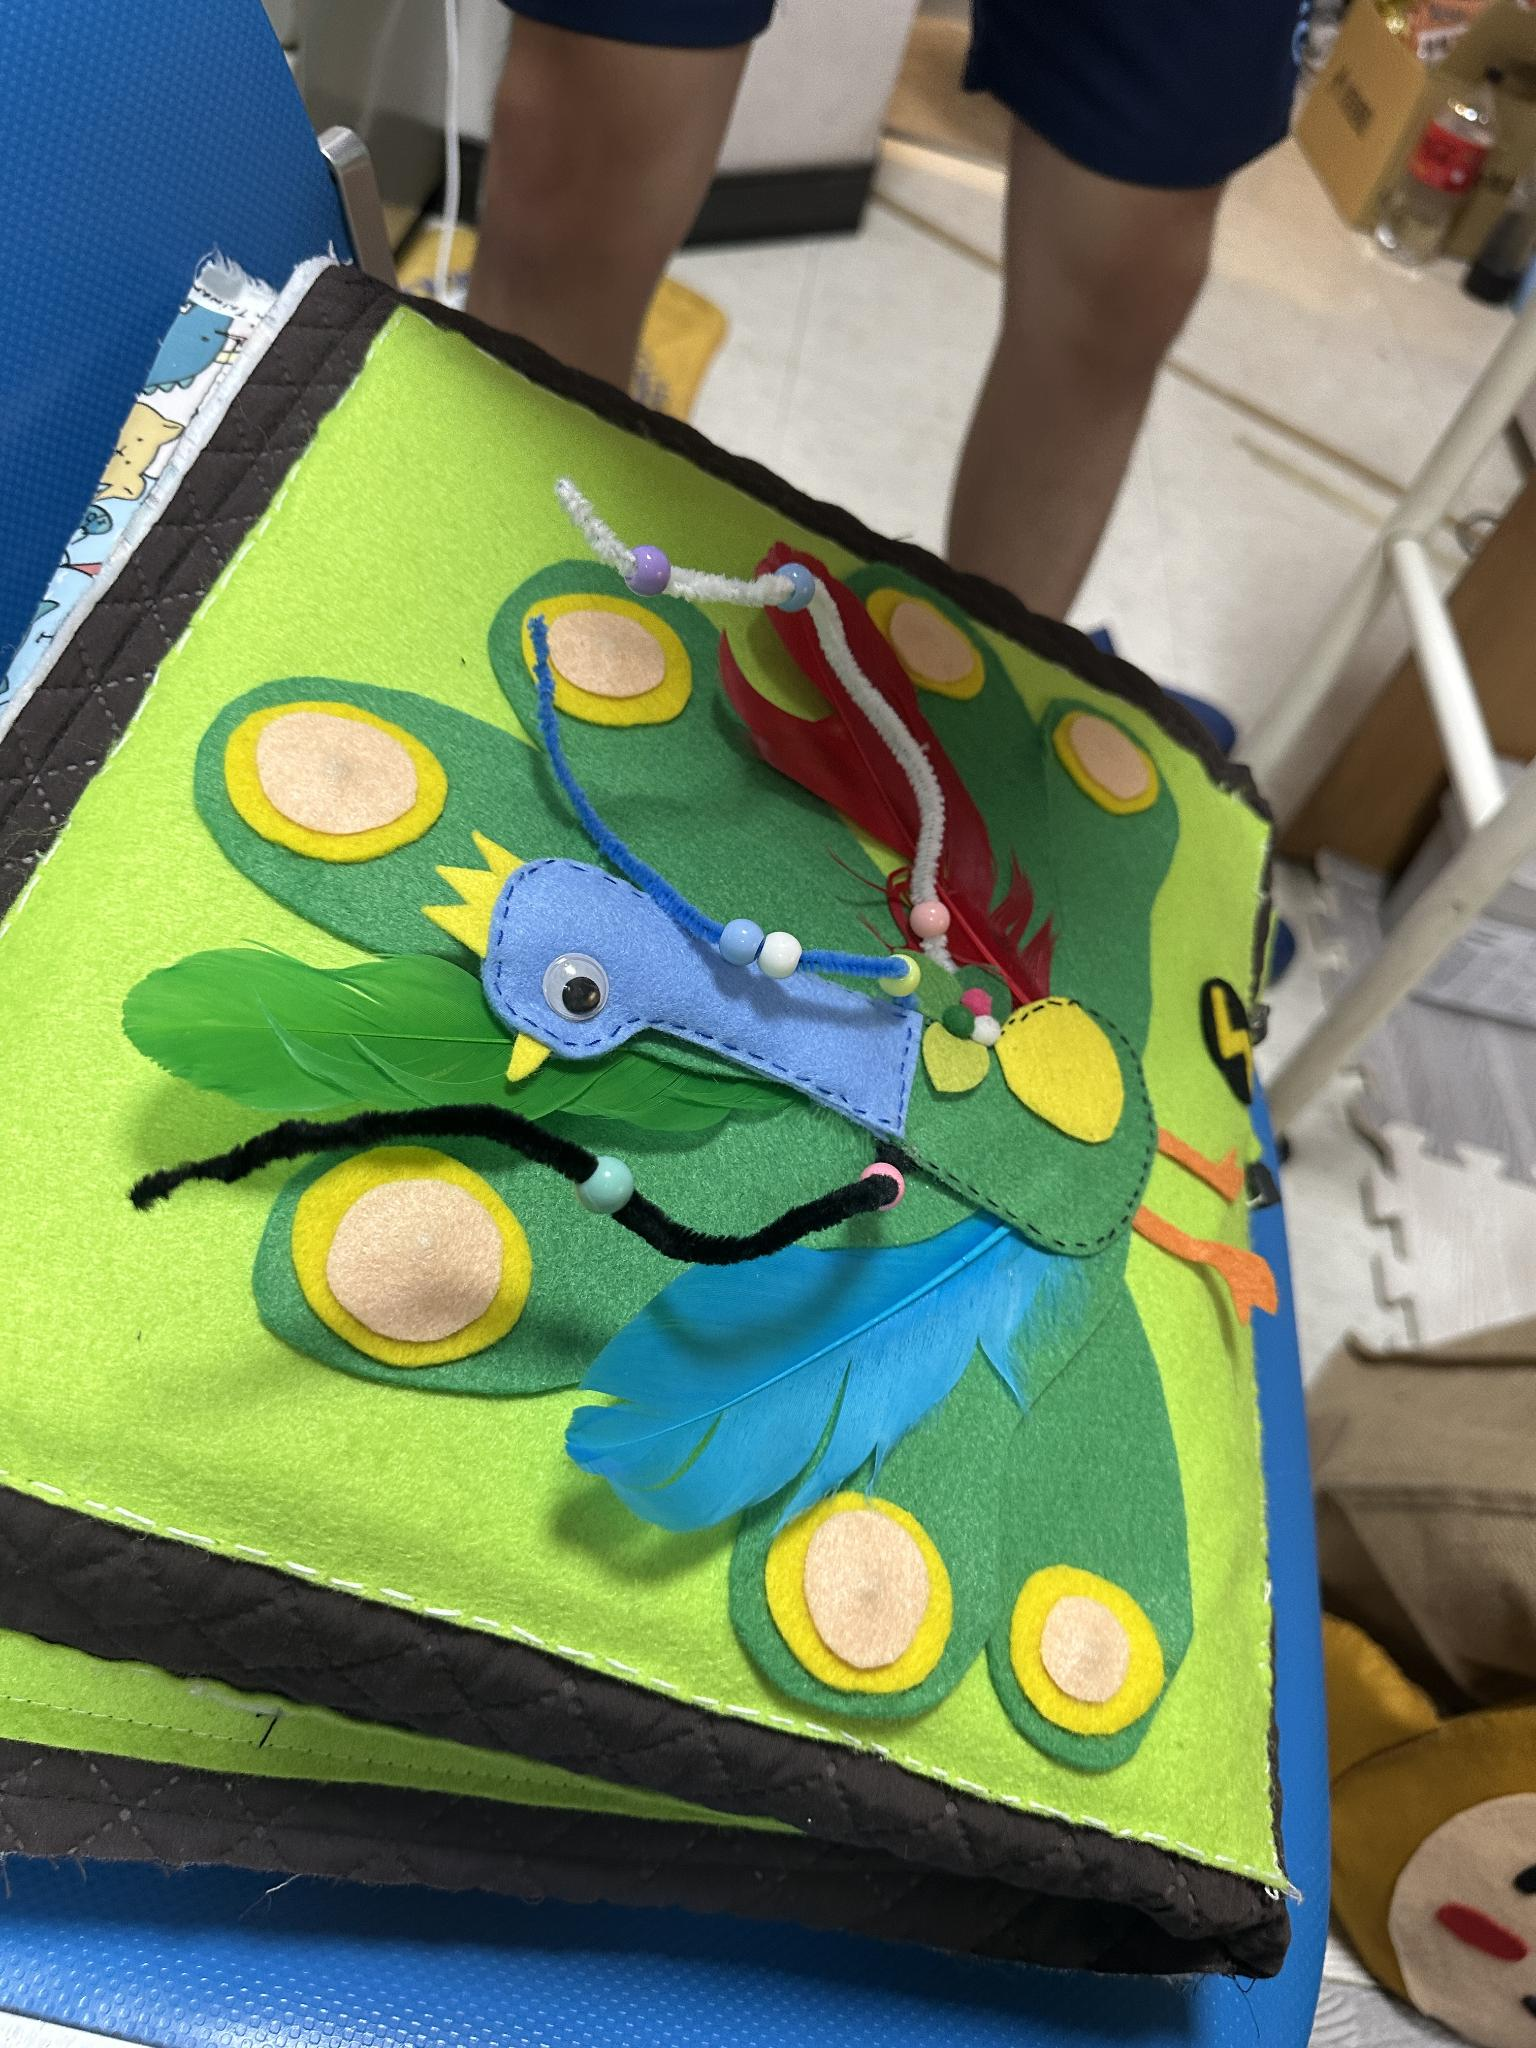bead: (570, 1129, 639, 1218), (762, 555, 818, 611), (762, 921, 813, 979), (620, 534, 666, 595), (858, 1155, 900, 1221), (713, 908, 755, 966), (879, 955, 921, 998), (912, 900, 957, 939)
